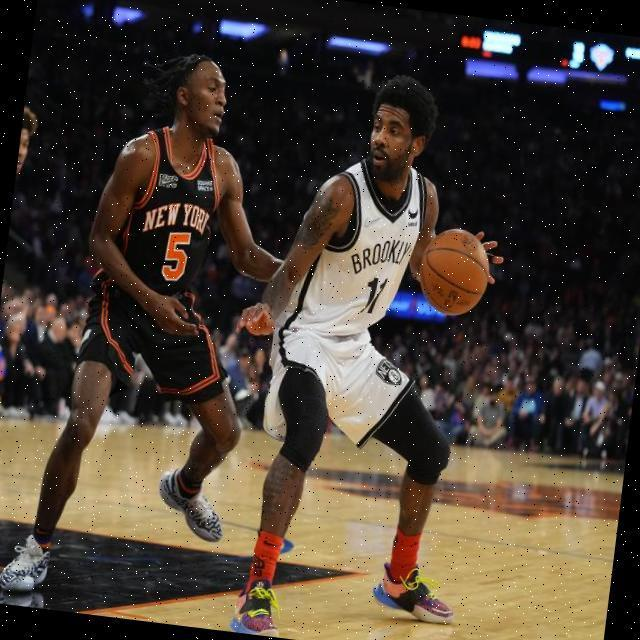ball: (412, 222, 496, 322)
